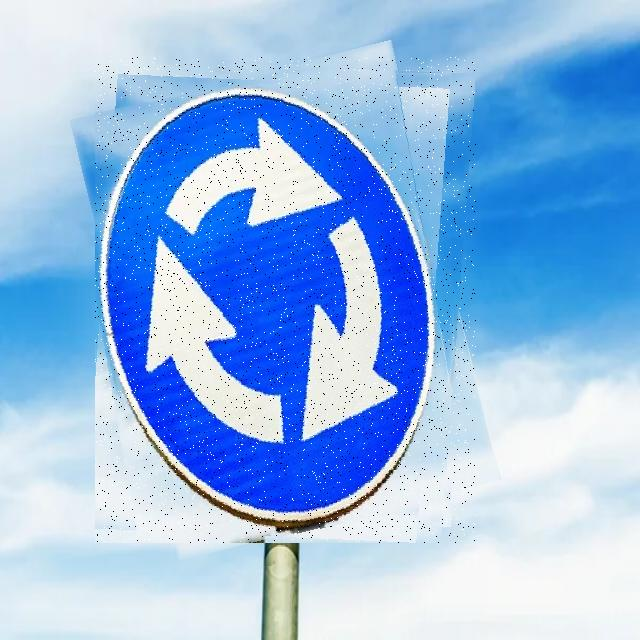roundabout: (95, 57, 476, 543)
